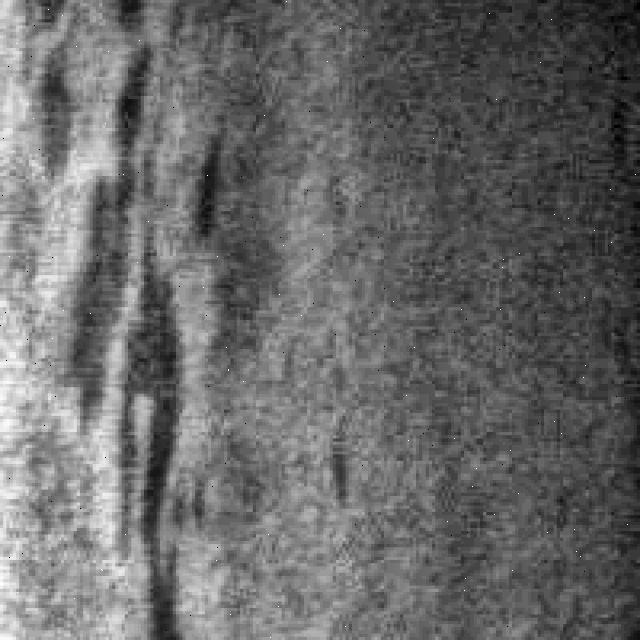Patches: (51, 16, 205, 624)
